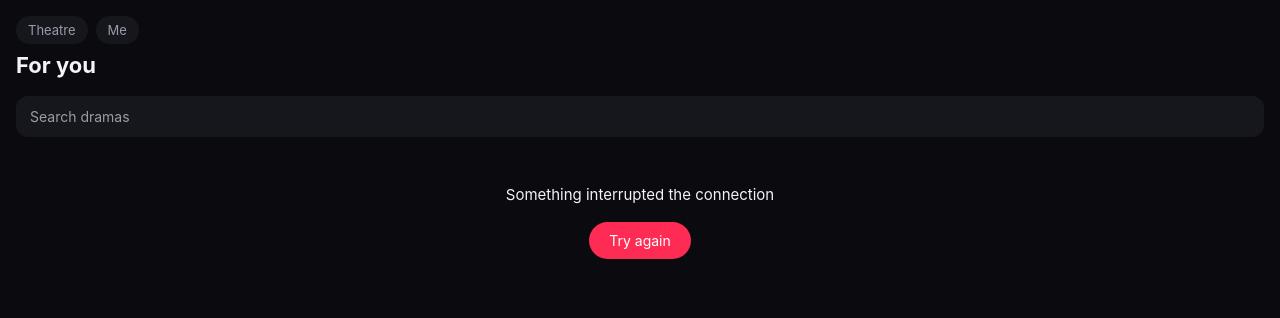
Test: the feed › offers a retry when the network failed, and reloads on it
Click the button "Try again".
click(640, 240)  # box 589,222 -> 691,258
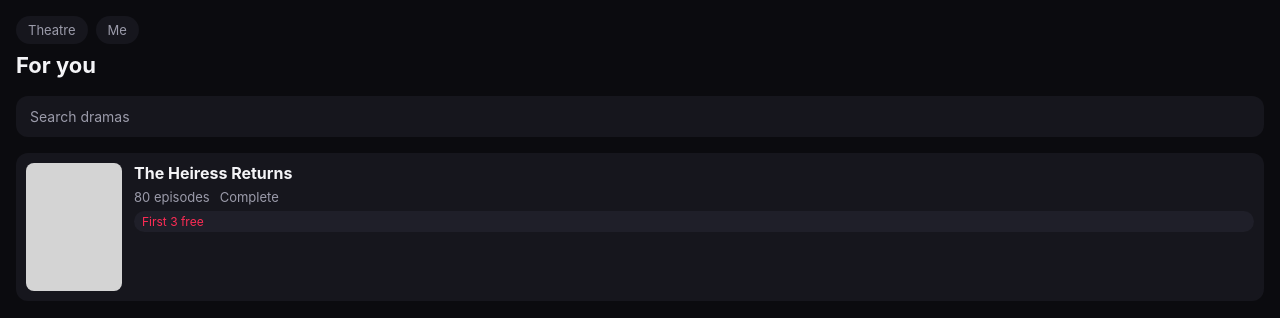
expect the list with test id "feed" is shown: met, box 16,152 -> 1264,300
expect the message with test id "retryable-error" is gone: met
